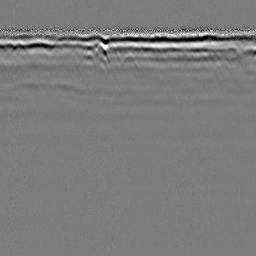cavity: (117, 51, 140, 69)
